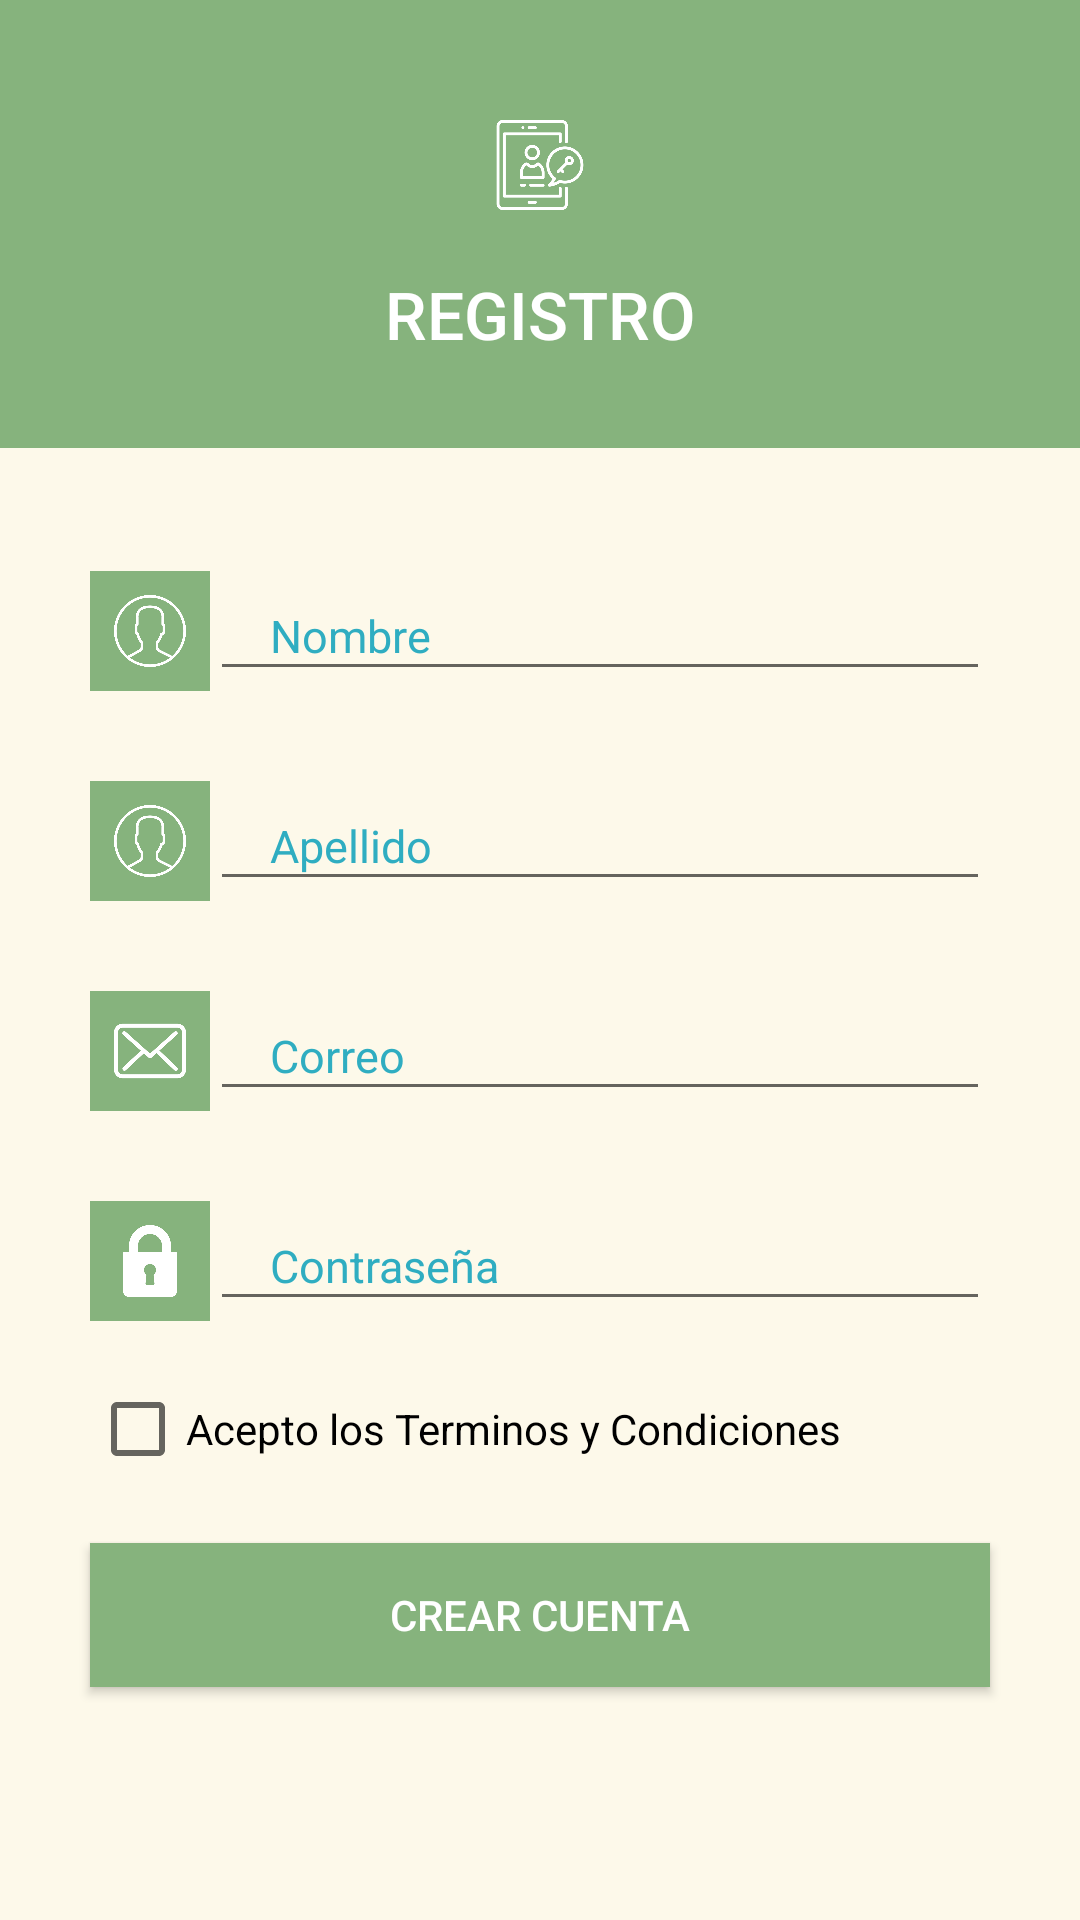

Icons on this 1080px×1920px Android screen, each with the point to tap as (x=x, y=y):
lock: (x=150, y=1261)
register: (x=540, y=165)
user: (x=150, y=631), (x=150, y=841)
